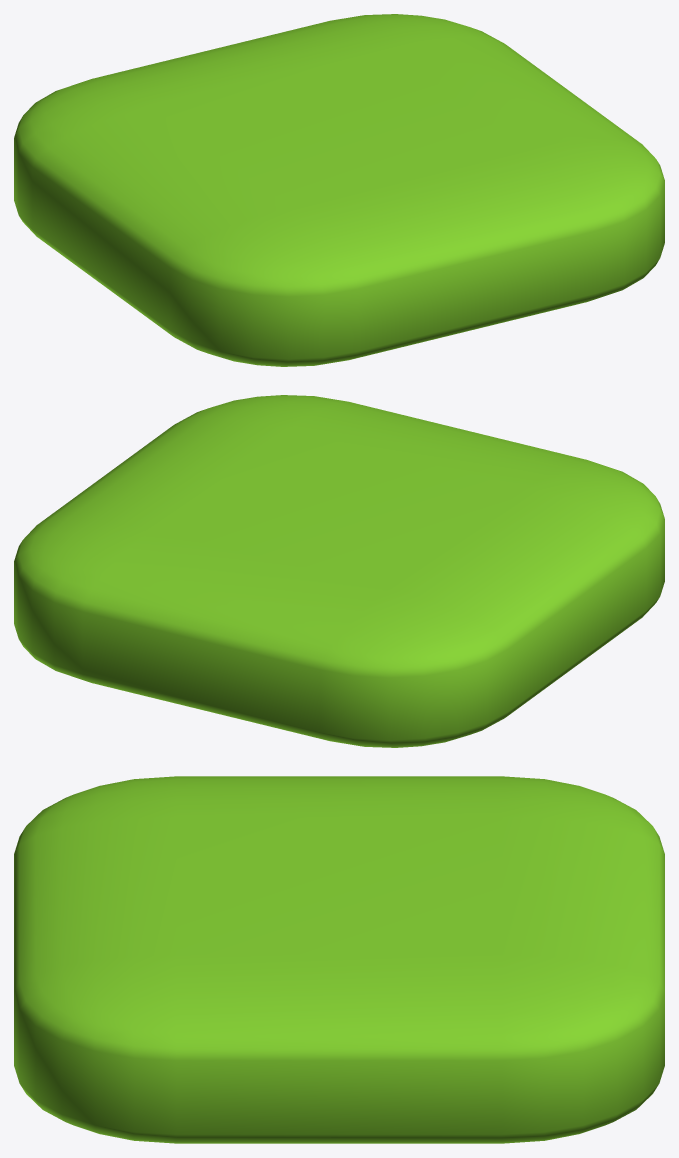
3 views of the same model, one above another, from view 1: azimuth 30°, elevation 25°; view 2: azimuth 150°, elevation 25°; view 3: azimuth 270°, elevation 25° (orthographic). The views are drawn at different scales.
Parts seen in each view (by area): view 1: Base; view 2: Base; view 3: Base.
Part boxes in pixels (box(x1,y1,x2,y2)): Base: box(14, 14, 664, 366); Base: box(14, 395, 664, 747); Base: box(14, 776, 664, 1143).
Size of the model in its own units: 2 by 2 by 0.5.
